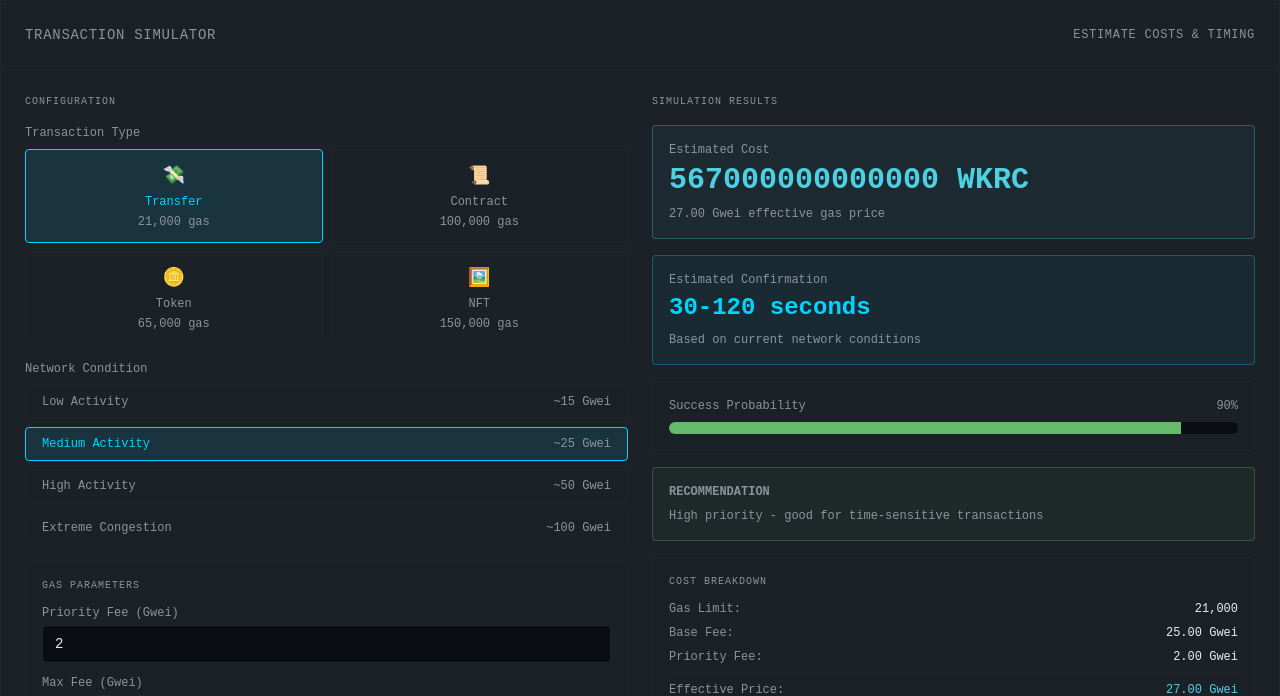
TransactionSimulator - Transaction Type Selection › selects token type and updates gas limit
This screenshot has width=1280, height=696.
Click the button with aria-label "Select Token transaction type" at coordinates (174, 298), box [25,251,322,345]
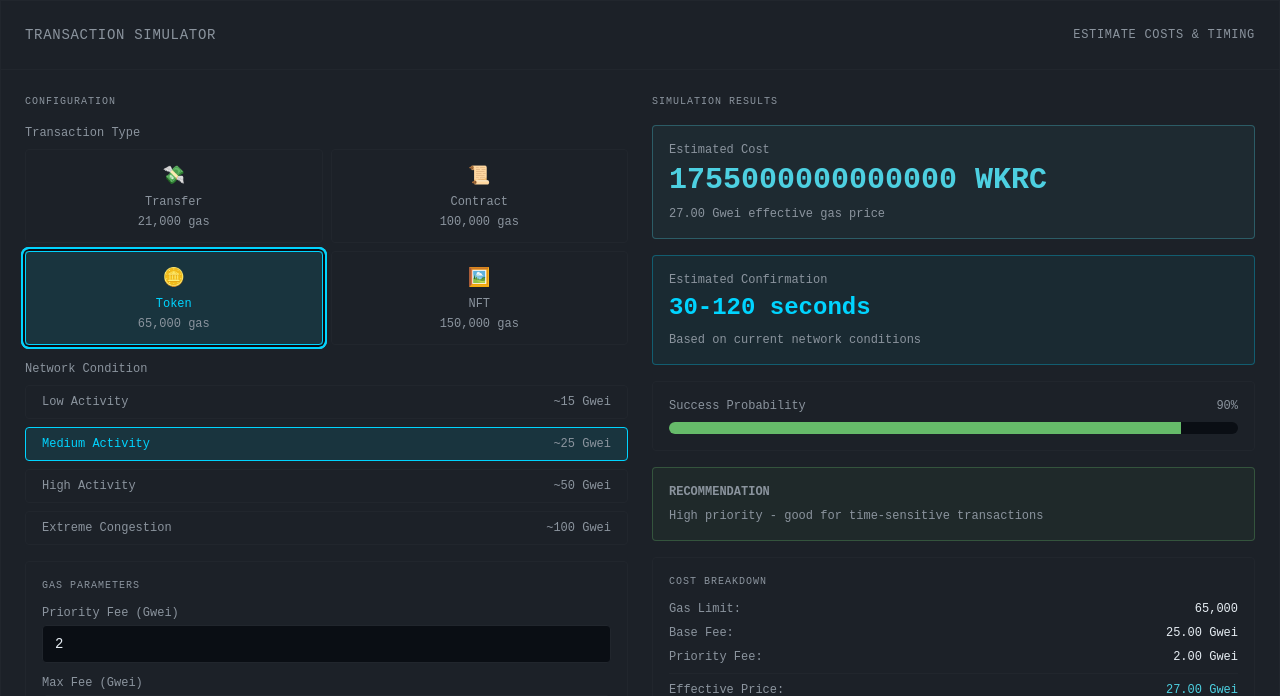
Expected: the text "65,000" is shown, [1195,601,1238,617]
